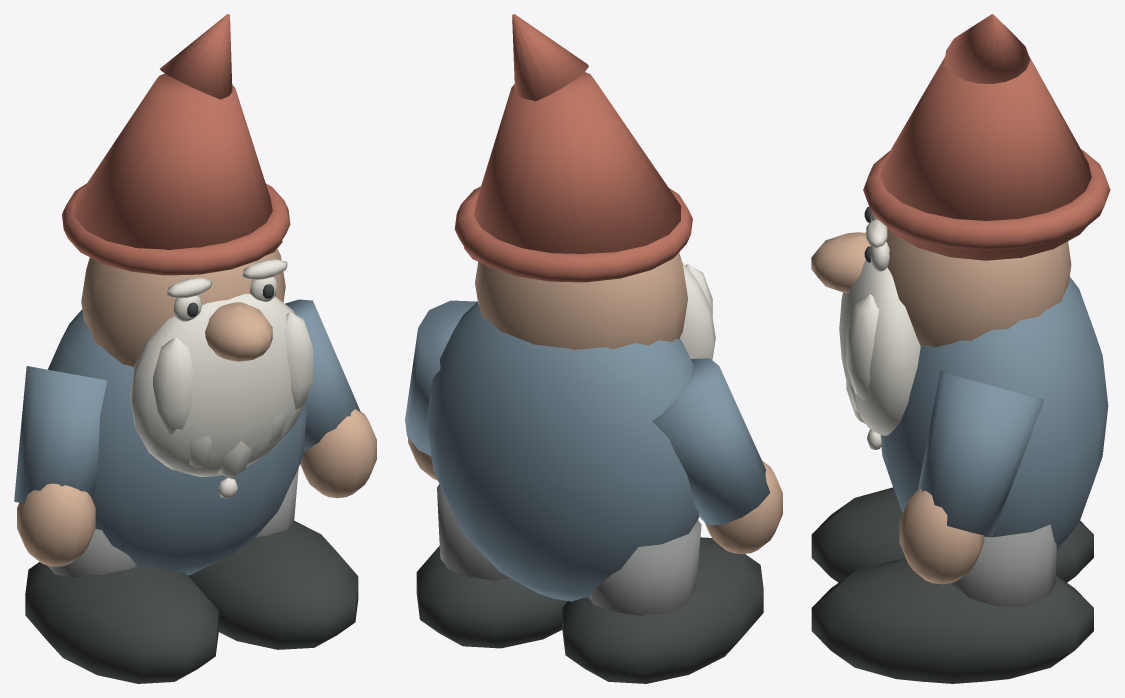
The model's file is garden-gnome.glb.
3 views of the same model, side by side, from view 1: azimuth 30°, elevation 25°; view 2: azimuth 150°, elevation 25°; view 3: azimuth 270°, elevation 25° (orthographic). The views are drawn at different scales.
Parts seen in each view (by area): view 1: garden-gnome; view 2: garden-gnome; view 3: garden-gnome.
Boxes of the visible parts, x1,y1,x2,y2 form: garden-gnome: (14,14,376,683); garden-gnome: (405,14,782,683); garden-gnome: (811,14,1110,683).
Size of the model in its own units: 0.6 by 0.991 by 0.4133.
